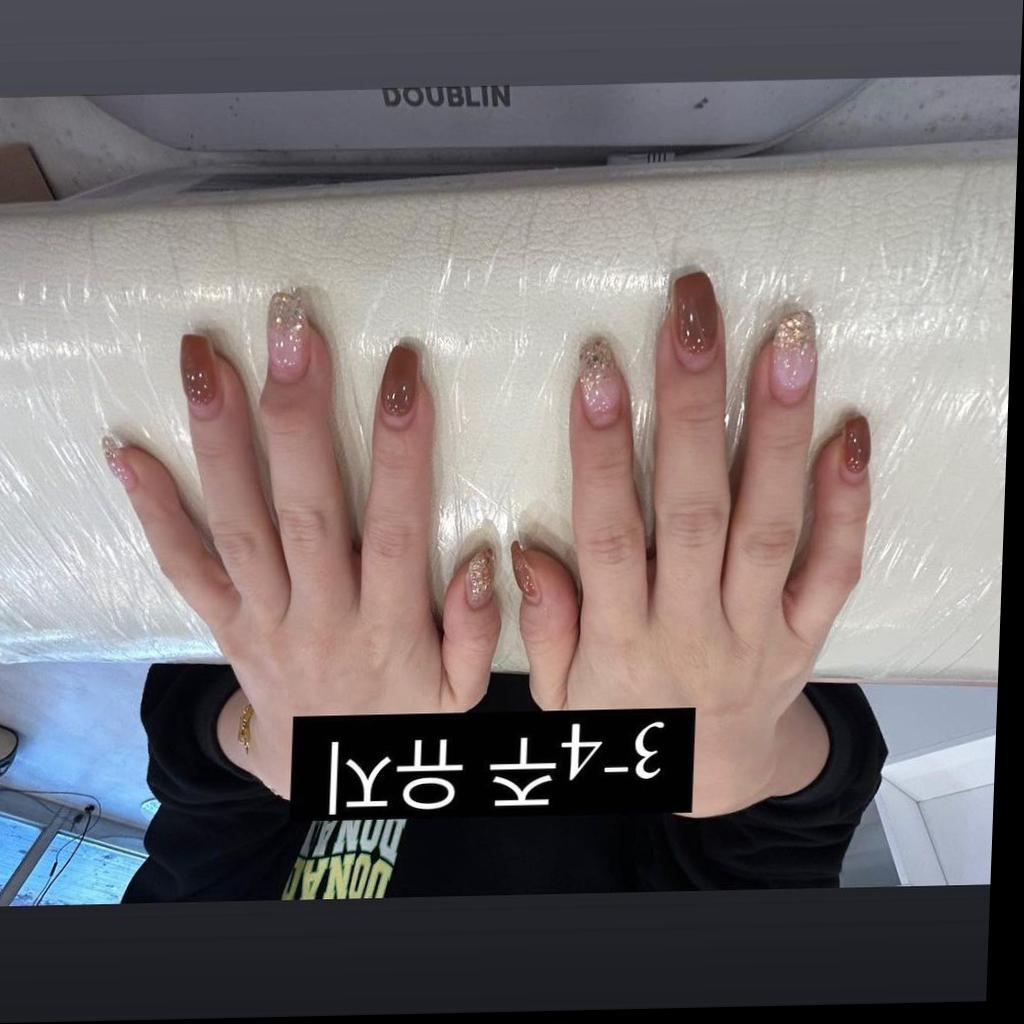nail: (671, 272, 723, 374), (768, 311, 820, 408), (265, 292, 315, 386), (577, 339, 626, 432), (178, 334, 227, 422), (380, 344, 423, 430), (101, 436, 142, 494), (509, 541, 545, 607), (840, 417, 873, 484), (465, 548, 497, 611)
